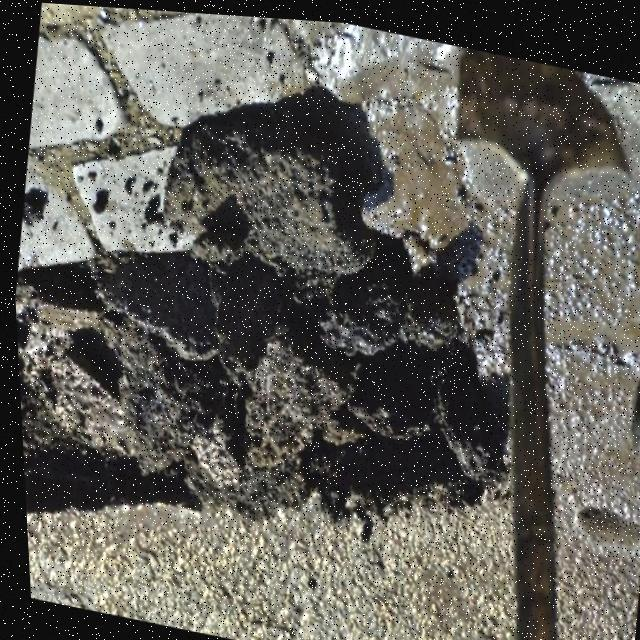pothole: (8, 199, 528, 619)
